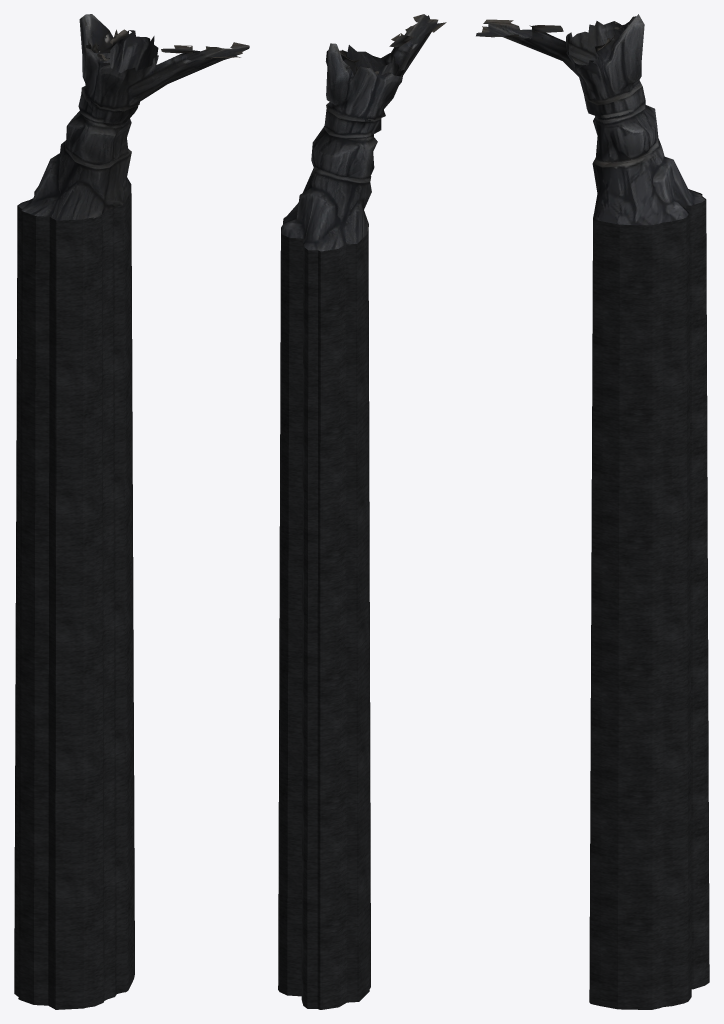
File: horaro_rock_pillar_4.glb
3 renders of one model, left to right at view 1: azimuth 90°, elevation 25°; view 2: azimuth 150°, elevation 25°; view 3: azimuth 270°, elevation 25°, orthographic. The views are drawn at different scales.
Parts seen in each view (by area): view 1: horaro_rock_pillar_4_L1_foundation, horaro_rock_pillar_4; view 2: horaro_rock_pillar_4_L1_foundation, horaro_rock_pillar_4; view 3: horaro_rock_pillar_4_L1_foundation, horaro_rock_pillar_4.
Part boxes in pixels (left/top/right/bottom): horaro_rock_pillar_4_L1_foundation: left=14, top=188, right=134, bottom=1009; horaro_rock_pillar_4: left=18, top=14, right=249, bottom=220; horaro_rock_pillar_4_L1_foundation: left=278, top=217, right=370, bottom=1009; horaro_rock_pillar_4: left=281, top=14, right=446, bottom=251; horaro_rock_pillar_4_L1_foundation: left=589, top=189, right=709, bottom=1009; horaro_rock_pillar_4: left=476, top=14, right=704, bottom=225.
Size of the model in its own units: 1.65 by 15.27 by 3.34.
2 materials, 2 textured.
